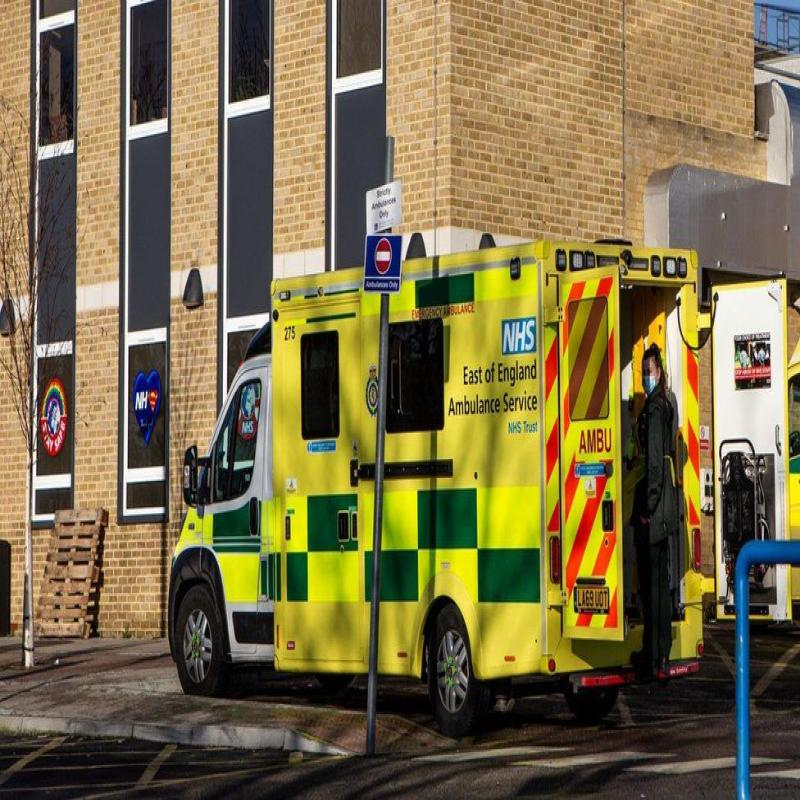ambulance: (170, 195, 718, 701)
